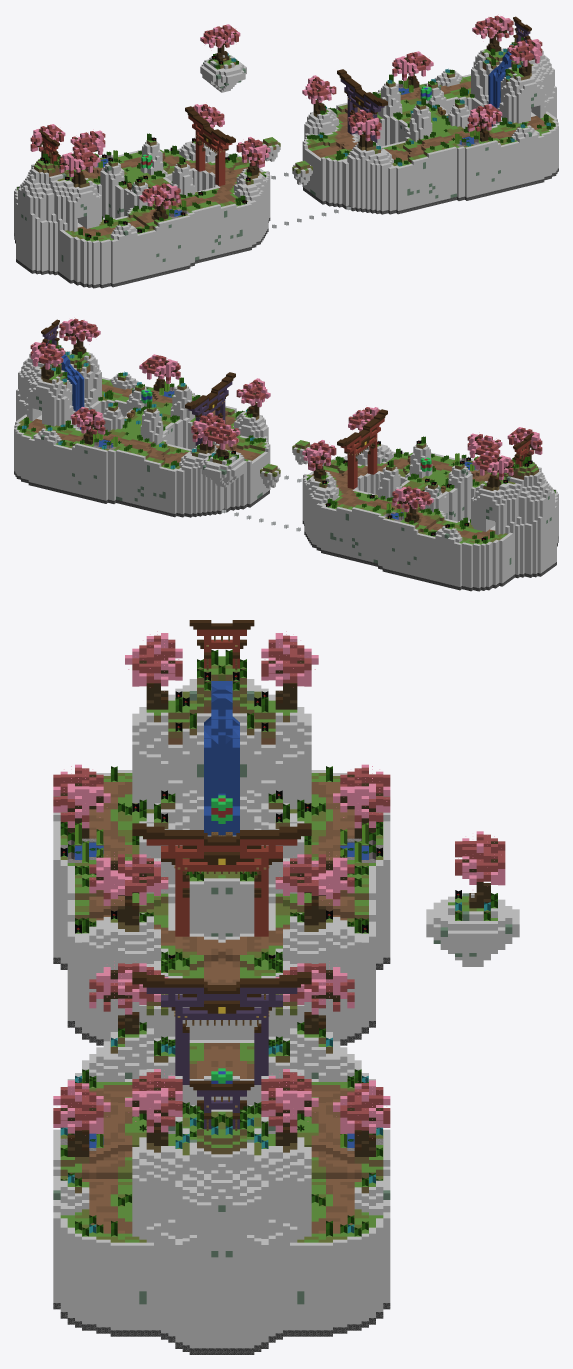
File: minecraft.obj
The picture shows the model from 3 angles, top to bottom: view 1: azimuth 30°, elevation 25°; view 2: azimuth 150°, elevation 25°; view 3: azimuth 270°, elevation 25°; orthographic projection. The views are drawn at different scales.
Bounding box in the file's own units: 169 × 40 × 65.
